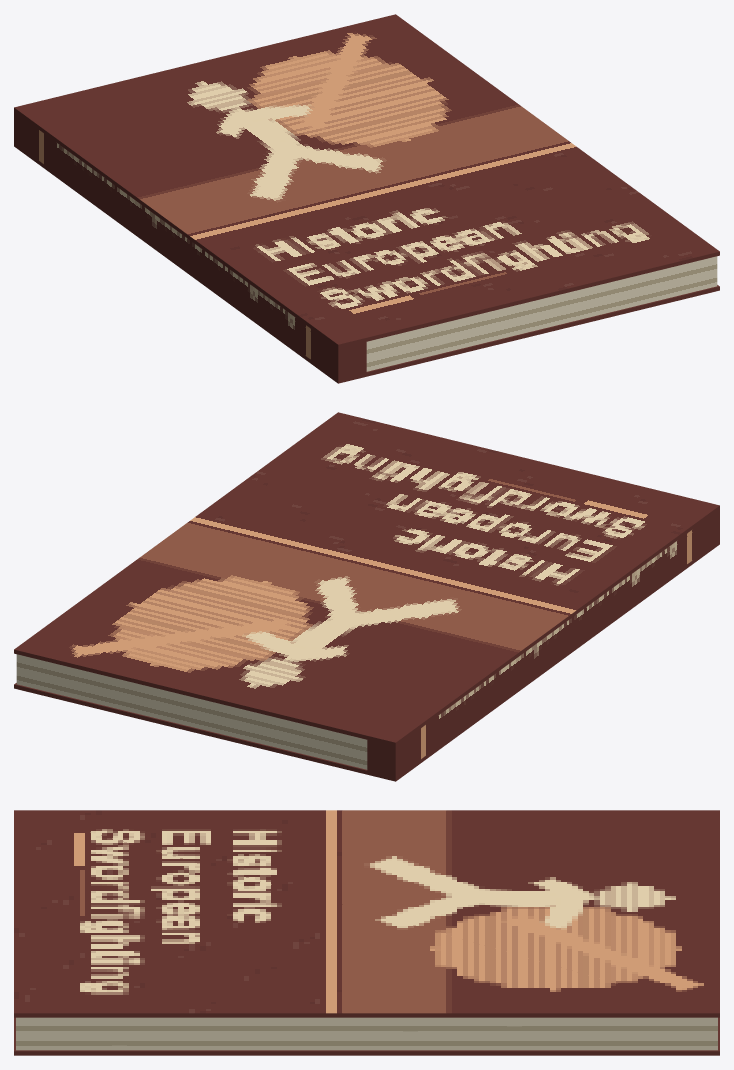
Rendered from manual_swordsmanship.glb.
The picture shows the model from 3 angles, top to bottom: view 1: azimuth 30°, elevation 25°; view 2: azimuth 150°, elevation 25°; view 3: azimuth 270°, elevation 25°; orthographic projection. The views are drawn at different scales.
Parts seen in each view (by area): view 1: block_front cover, block_spine, block_page block, block_back cover; view 2: block_front cover, block_spine, block_page block, block_back cover; view 3: block_front cover, block_page block, block_back cover.
Boxes of the visible parts, x1,y1,x2,y2 form: block_front cover: (14,14,719,348); block_spine: (14,111,366,379); block_page block: (366,256,717,371); block_back cover: (14,142,719,383); block_front cover: (14,412,719,746); block_spine: (367,509,719,777); block_page block: (16,654,367,769); block_back cover: (14,540,719,781); block_front cover: (14,810,719,1017); block_page block: (16,1017,717,1050); block_back cover: (14,1017,719,1055).
Size of the model in its own units: 0.1204 by 0.0117 by 0.177.
1 material, 1 textured.
